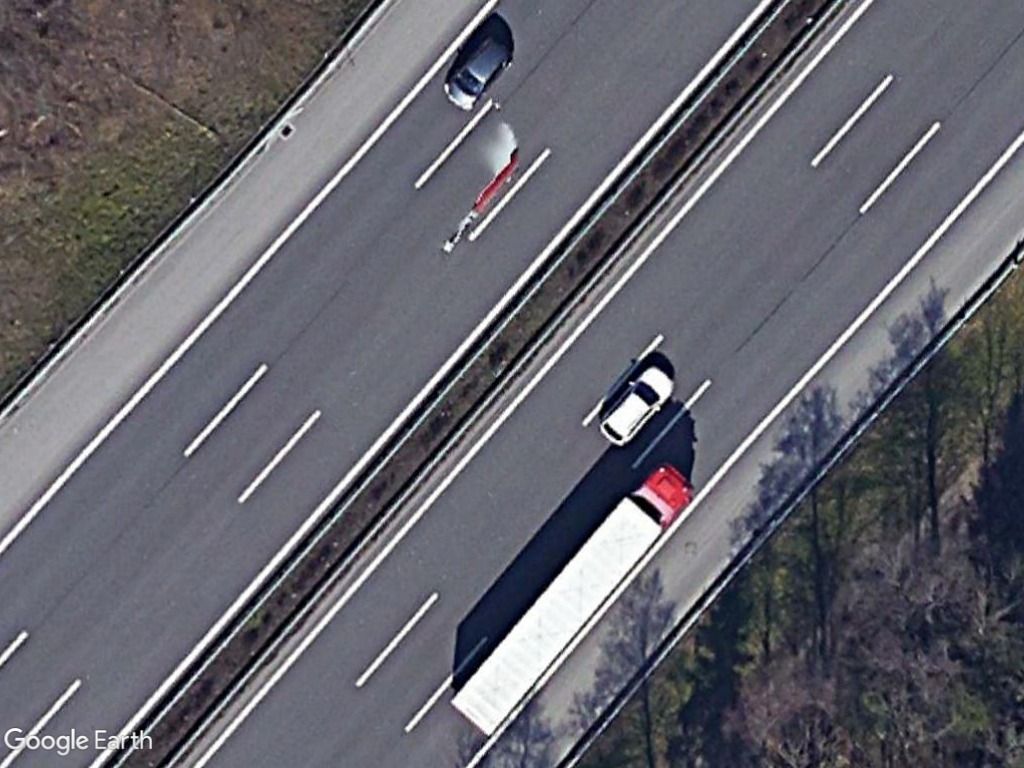car: (598, 364, 677, 449), (443, 34, 515, 114)
longvehicle: (448, 463, 695, 743)
